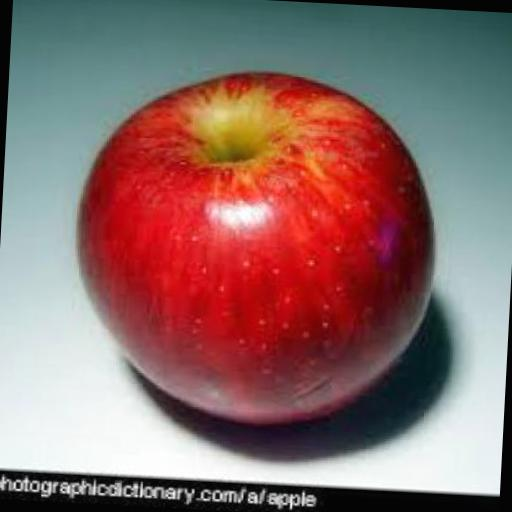biodegradable: (62, 58, 440, 436)
